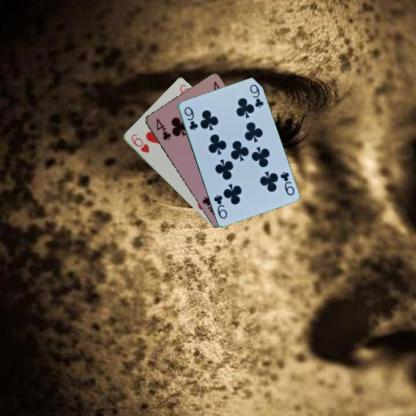4c: (153, 116, 172, 142)
6h: (128, 132, 150, 154)
9c: (181, 104, 199, 132), (278, 169, 296, 196)
